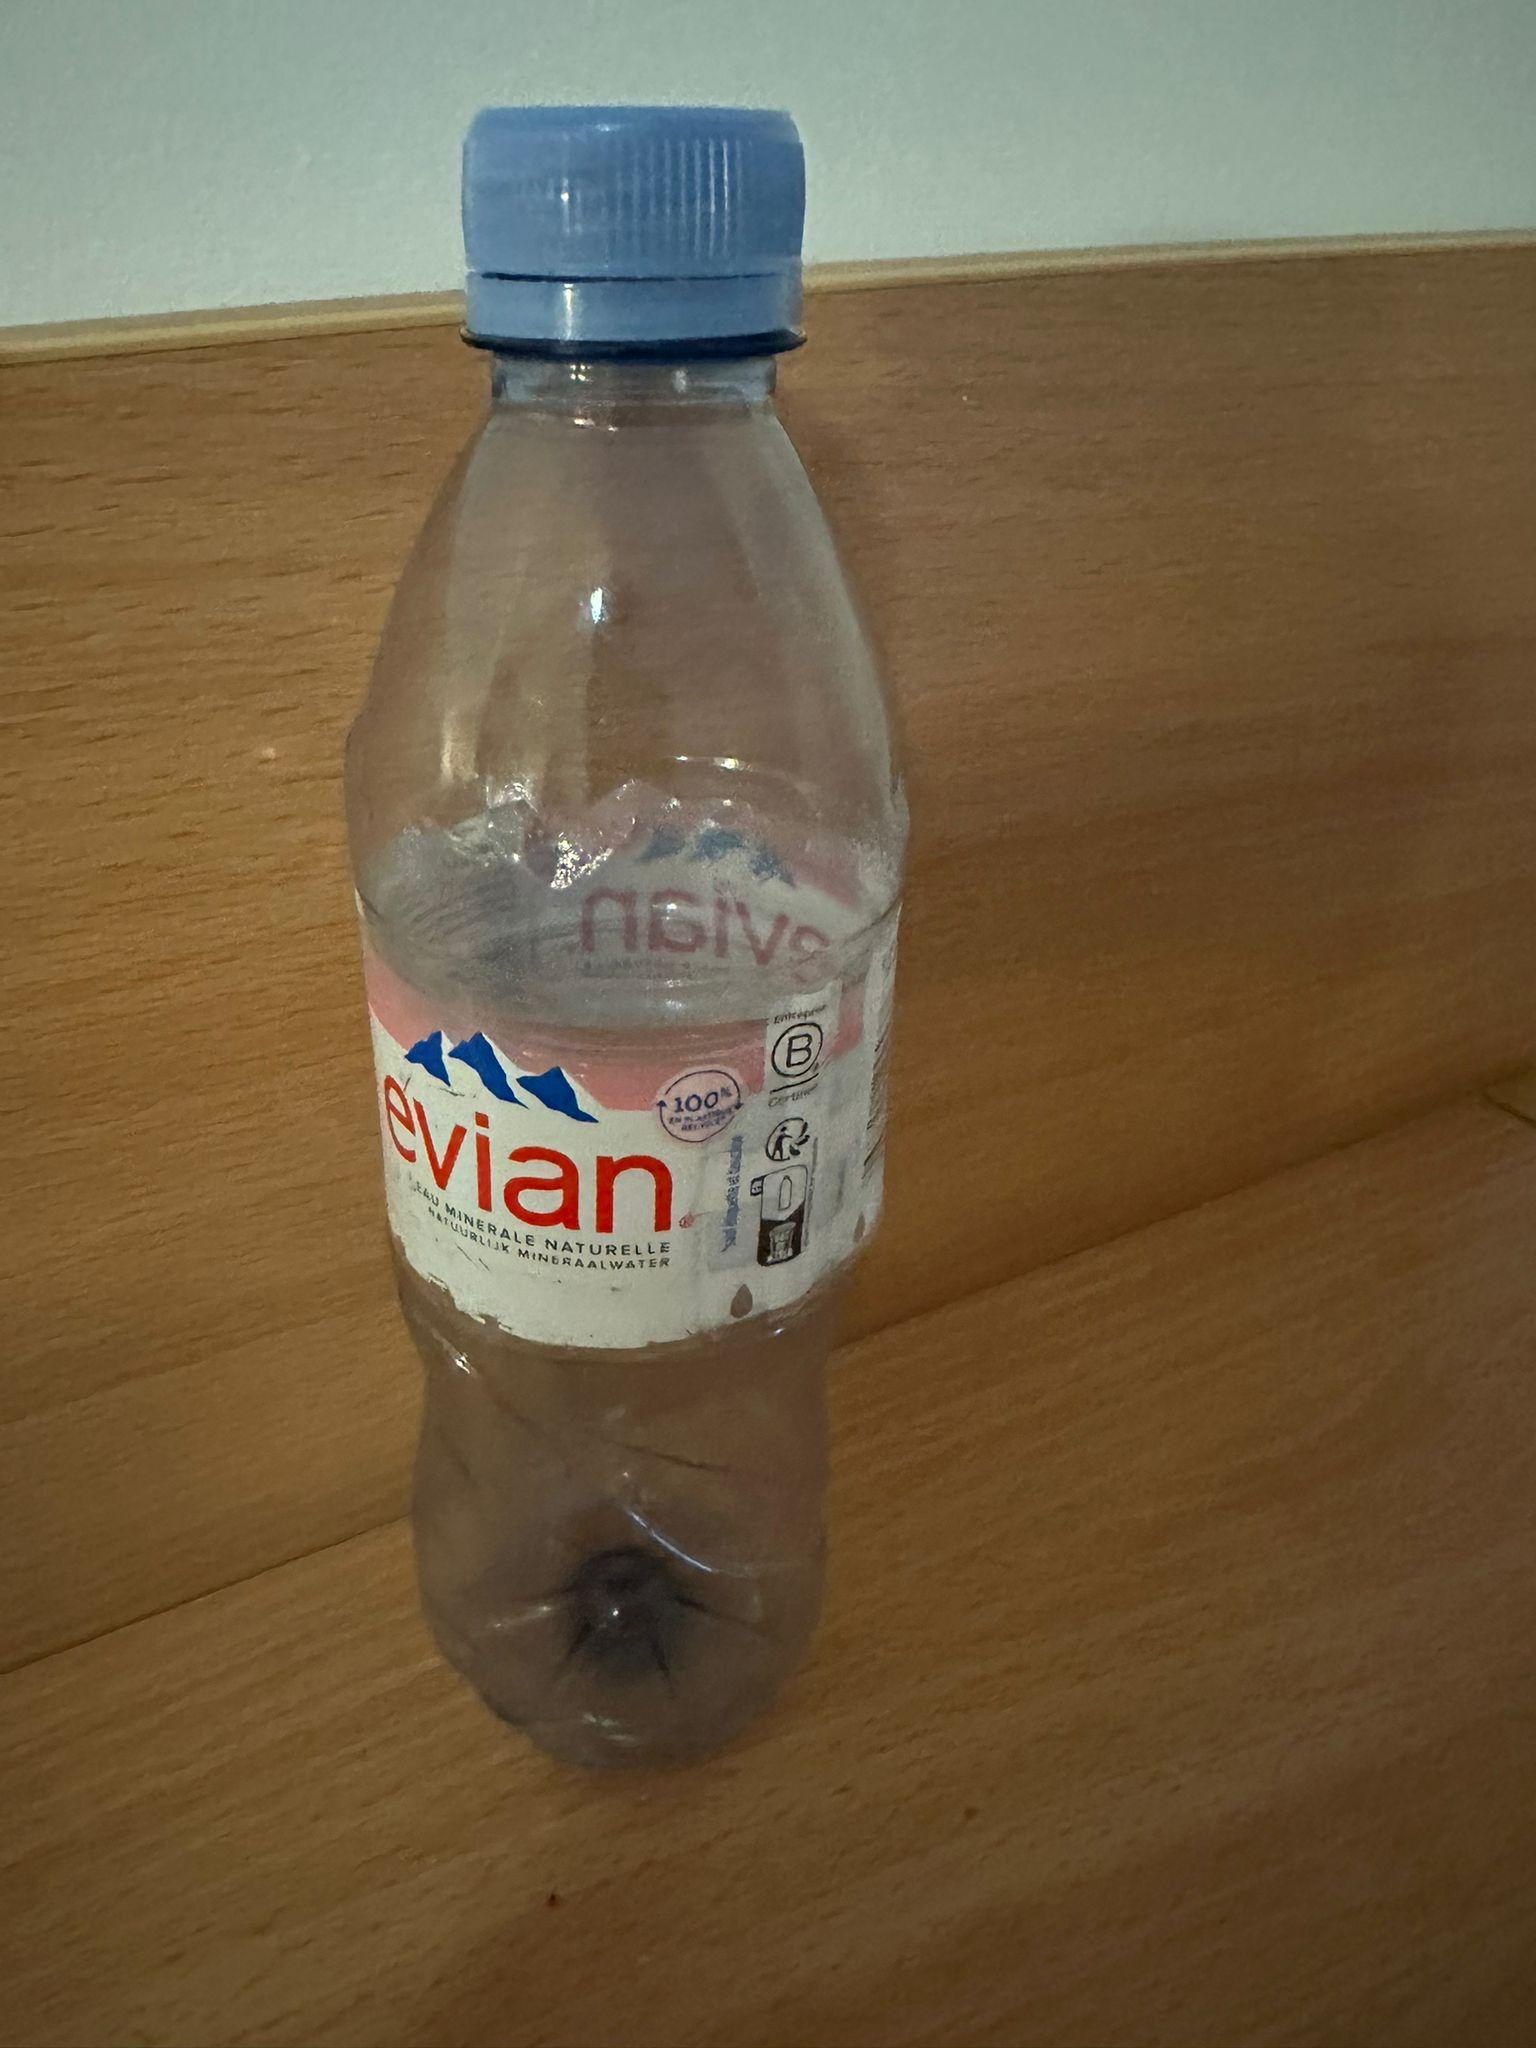PET: (342, 102, 913, 1769)
evian: (342, 102, 913, 1769)
plastic: (342, 102, 913, 1769)
water: (342, 102, 913, 1769)
